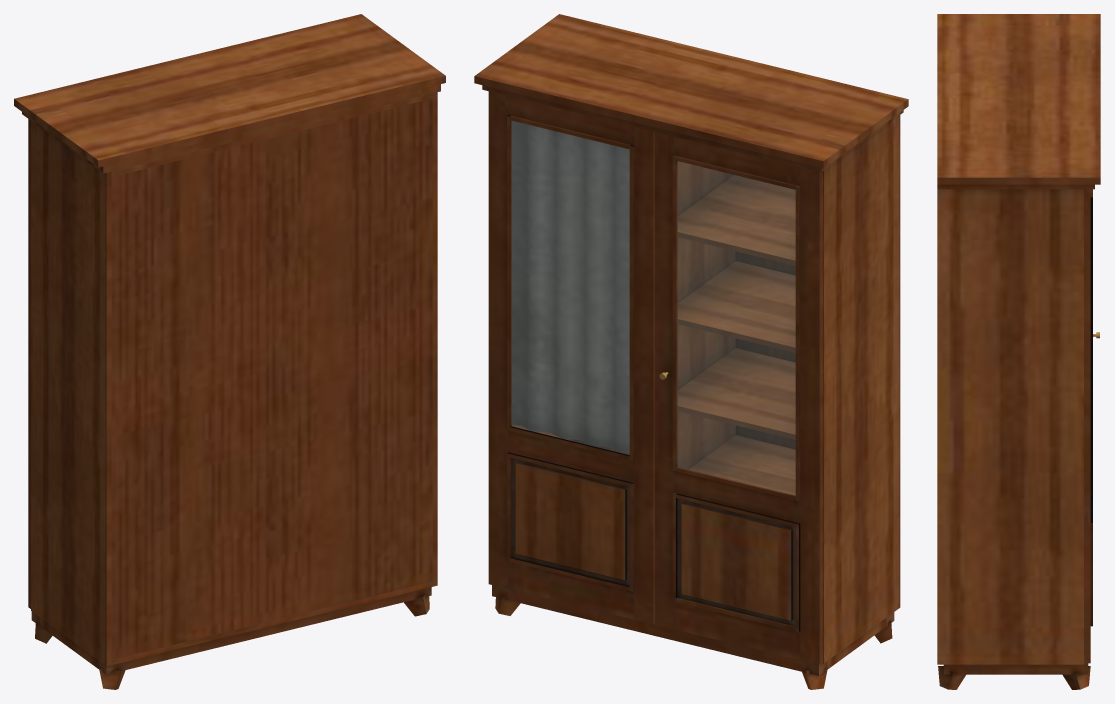
Rendered from wardrobe_50s_glass_lod1_web.glb.
3 renders of one model, left to right at view 1: azimuth 30°, elevation 25°; view 2: azimuth 150°, elevation 25°; view 3: azimuth 270°, elevation 25°, orthographic. The views are drawn at different scales.
Parts seen in each view (by area): view 1: Wardrobe50sGlass_Body, Door_R_Mesh; view 2: Wardrobe50sGlass_Body, Door_L_Mesh, Door_R_Mesh, Glass_Door_R, Glass_Door_L; view 3: Wardrobe50sGlass_Body, Door_L_Mesh.
Part boxes in pixels (<box>): Wardrobe50sGlass_Body: <box>14,14,445,689</box>; Door_R_Mesh: <box>28,119,30,608</box>; Wardrobe50sGlass_Body: <box>474,14,908,689</box>; Door_L_Mesh: <box>488,91,654,624</box>; Door_R_Mesh: <box>654,132,823,664</box>; Glass_Door_R: <box>677,161,795,495</box>; Glass_Door_L: <box>511,121,629,454</box>; Wardrobe50sGlass_Body: <box>937,14,1100,689</box>; Door_L_Mesh: <box>1084,189,1092,663</box>.
Size of the model in its own units: 1.26 by 1.87 by 0.53.
Materials: 3 (2 with a texture image).
